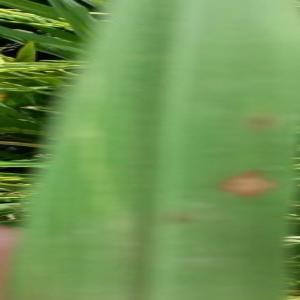Rice_Blast: (222, 150, 276, 214)
